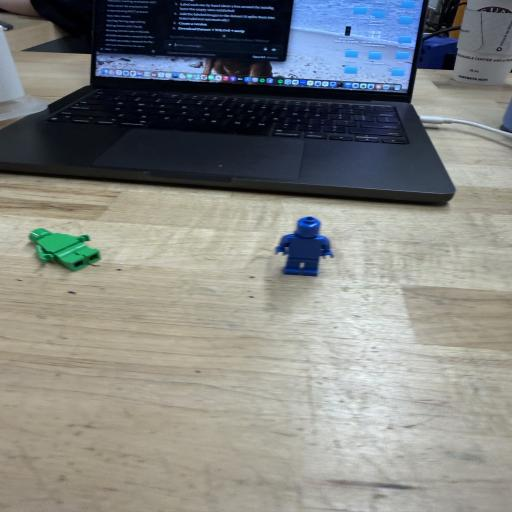blue-minifig: (275, 217, 334, 276)
green-minifig: (29, 228, 100, 271)
